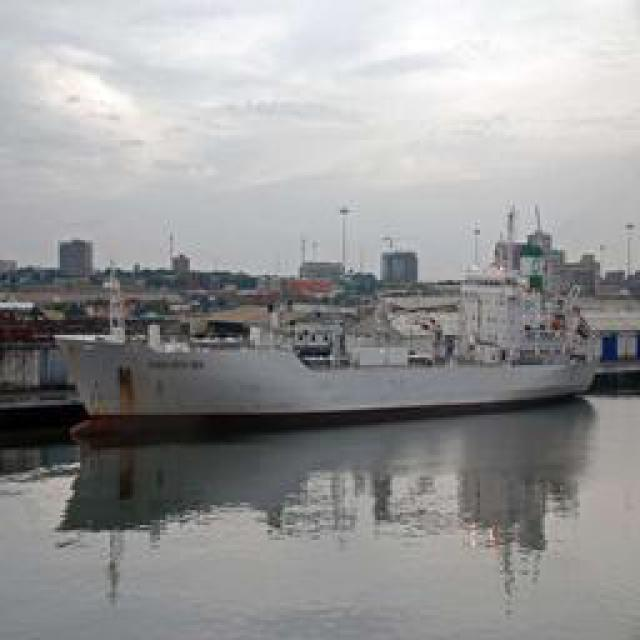Ship: (56, 305, 616, 420)
